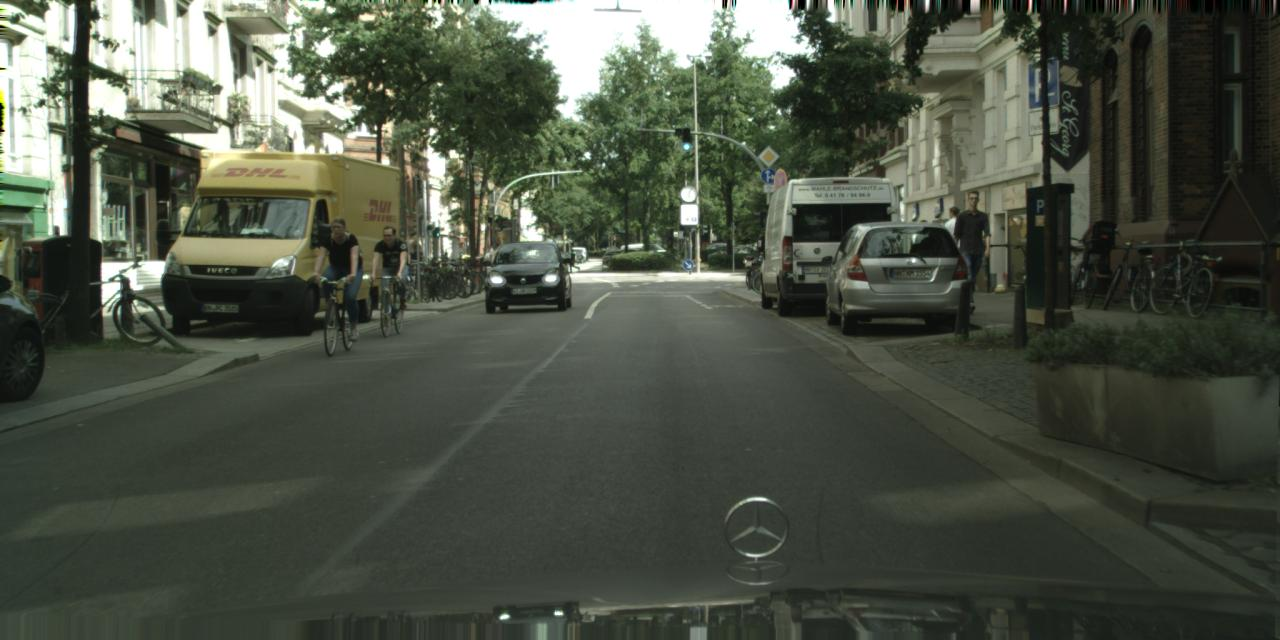ped: (946, 190, 996, 314), (316, 215, 362, 326), (374, 225, 407, 308), (938, 206, 969, 286), (910, 218, 936, 280), (408, 242, 426, 288), (484, 242, 501, 262), (568, 249, 577, 272), (482, 267, 490, 285)
